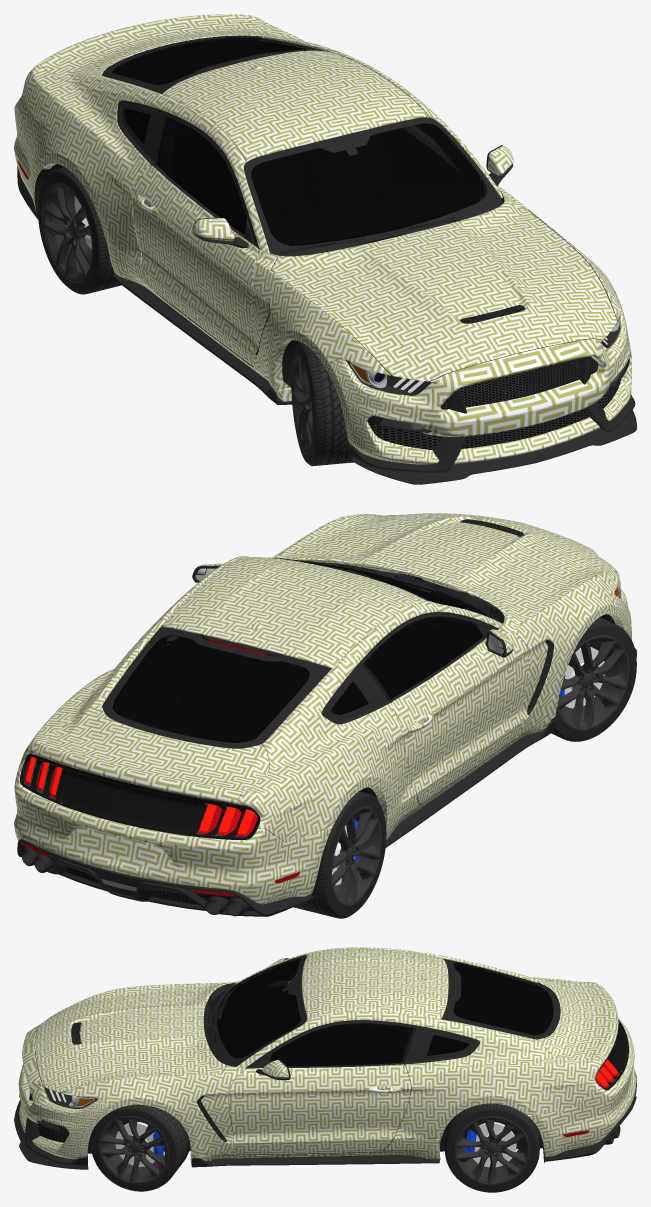
File: Satin Blue (1).glb
3 renders of one model, top to bottom at view 1: azimuth 30°, elevation 25°; view 2: azimuth 150°, elevation 25°; view 3: azimuth 270°, elevation 25°, orthographic. The views are drawn at different scales.
Parts seen in each view (by area): view 1: object.001_Material.015_0, object_Windows_0, object.016_Material.013_0, object.015_Material.016_0, wheel.001, object.010_grill_0, wheel.000, object.013_Material.017_0, object.017_Glass_0, object.002_Material.009_0, object.014_Black_0; view 2: object.001_Material.015_0, object_Windows_0, object.016_Material.013_0, object.015_Material.016_0, object.008_Shiny Black_0, wheel.000, wheel.001, object.007_BRED_0, object.010_grill_0, object.009_RED_0, object.013_Material.017_0; view 3: object.001_Material.015_0, object_Windows_0, object.016_Material.013_0, object.015_Material.016_0, wheel.002, wheel.003, object.013_Material.017_0, object.008_Shiny Black_0, object.017_Glass_0, object.014_Black_0, object.010_grill_0, object.002_Material.009_0.
Part boxes in pixels (x1,y1,x2,y2): object.001_Material.015_0: [14, 14, 631, 464]; object_Windows_0: [112, 37, 486, 245]; object.016_Material.013_0: [112, 40, 483, 323]; object.015_Material.016_0: [17, 37, 636, 484]; wheel.001: [38, 167, 121, 294]; object.010_grill_0: [368, 305, 620, 449]; wheel.000: [291, 341, 353, 466]; object.013_Material.017_0: [40, 20, 617, 381]; object.017_Glass_0: [18, 161, 628, 429]; object.002_Material.009_0: [346, 324, 619, 395]; object.014_Black_0: [49, 164, 610, 463]; object.001_Material.015_0: [14, 513, 631, 904]; object_Windows_0: [112, 557, 486, 742]; object.016_Material.013_0: [112, 577, 482, 742]; object.015_Material.016_0: [17, 521, 636, 916]; object.008_Shiny Black_0: [19, 753, 260, 839]; wheel.000: [550, 617, 636, 741]; wheel.001: [293, 791, 386, 918]; object.007_BRED_0: [21, 640, 299, 896]; object.010_grill_0: [24, 519, 523, 910]; object.009_RED_0: [26, 757, 254, 833]; object.013_Material.017_0: [36, 519, 616, 834]; object.001_Material.015_0: [18, 947, 636, 1163]; object_Windows_0: [217, 958, 553, 1066]; object.016_Material.013_0: [218, 959, 553, 1068]; object.015_Material.016_0: [14, 955, 636, 1169]; wheel.002: [444, 1103, 539, 1192]; wheel.003: [90, 1104, 190, 1191]; object.013_Material.017_0: [34, 982, 560, 1155]; object.008_Shiny Black_0: [595, 1019, 628, 1090]; object.017_Glass_0: [41, 1076, 588, 1136]; object.014_Black_0: [42, 1095, 542, 1166]; object.010_grill_0: [38, 1022, 615, 1142]; object.002_Material.009_0: [44, 1021, 619, 1108].
Size of the model in its own units: 0.1493 by 0.1007 by 0.34.
Materials: 25 (3 with a texture image).
